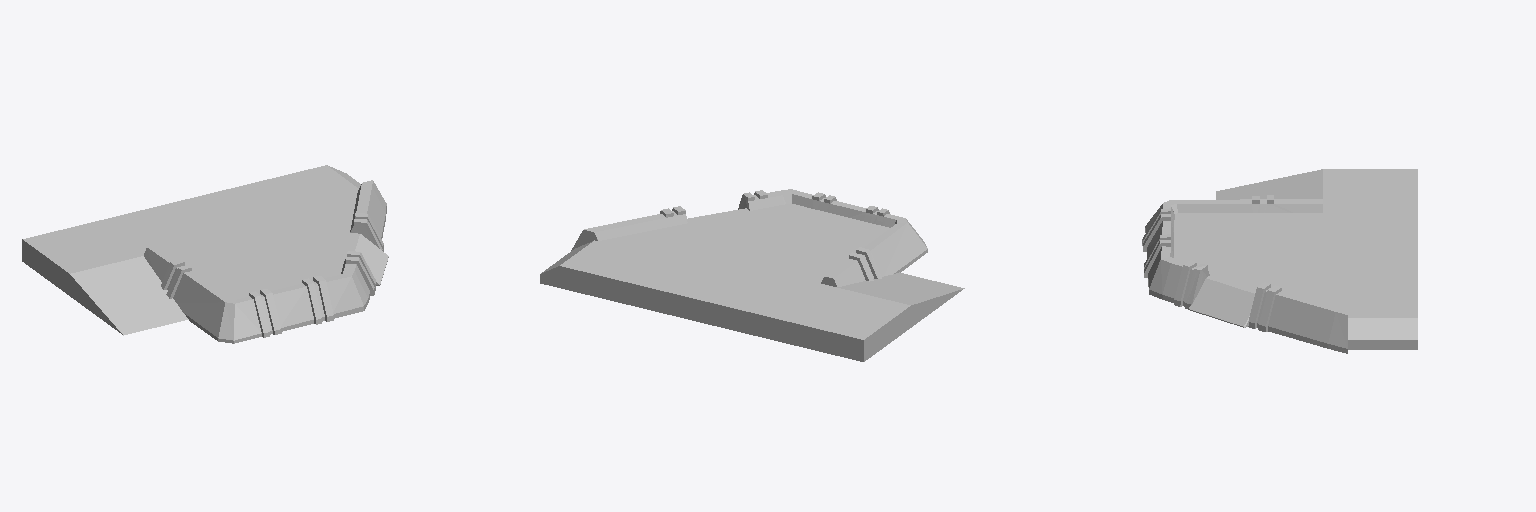
File: Trapezoidal Highland 3.obj
The picture shows the model from 3 angles: view 1: azimuth 30°, elevation 25°; view 2: azimuth 150°, elevation 25°; view 3: azimuth 270°, elevation 25°; orthographic projection.
Visible parts, largest first — view 1: 本体, 外框; view 2: 本体, 外框; view 3: 本体, 外框.
Part boxes in pixels (left/top/right/bottom): 本体: left=22, top=165, right=388, bottom=335; 外框: left=144, top=180, right=386, bottom=343; 本体: left=540, top=203, right=964, bottom=361; 外框: left=571, top=189, right=927, bottom=286; 本体: left=1174, top=169, right=1417, bottom=349; 外框: left=1142, top=195, right=1347, bottom=353.
Bounding box in the file's own units: 619 × 64.89 × 448.